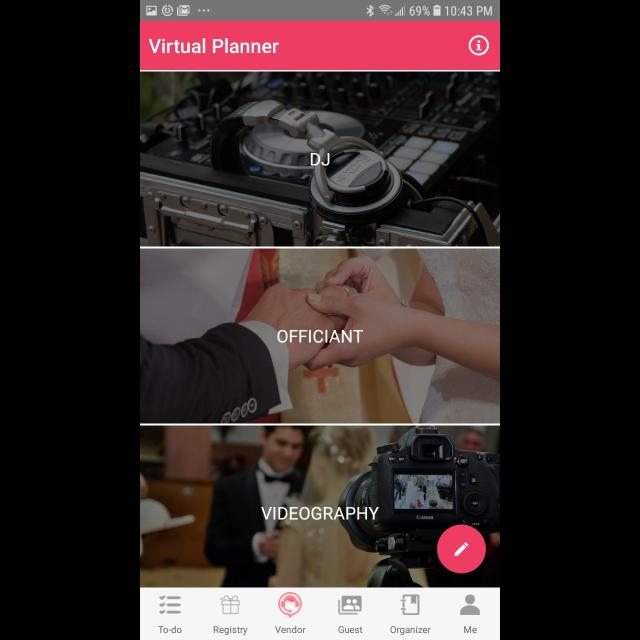icon: (437, 524, 487, 574), (338, 595, 362, 615), (460, 594, 480, 616), (400, 594, 420, 616), (468, 36, 489, 56), (160, 596, 182, 614), (220, 596, 240, 614)
image: (140, 72, 500, 248), (140, 248, 500, 424), (140, 425, 500, 587), (278, 592, 302, 618)
text: (148, 38, 280, 54), (261, 506, 379, 520), (277, 329, 363, 343), (390, 625, 430, 635), (214, 625, 248, 635), (310, 154, 330, 166), (276, 625, 306, 633), (338, 626, 364, 634), (158, 625, 182, 633), (464, 626, 476, 634)
uppertaskbar: (140, 1, 500, 22)
